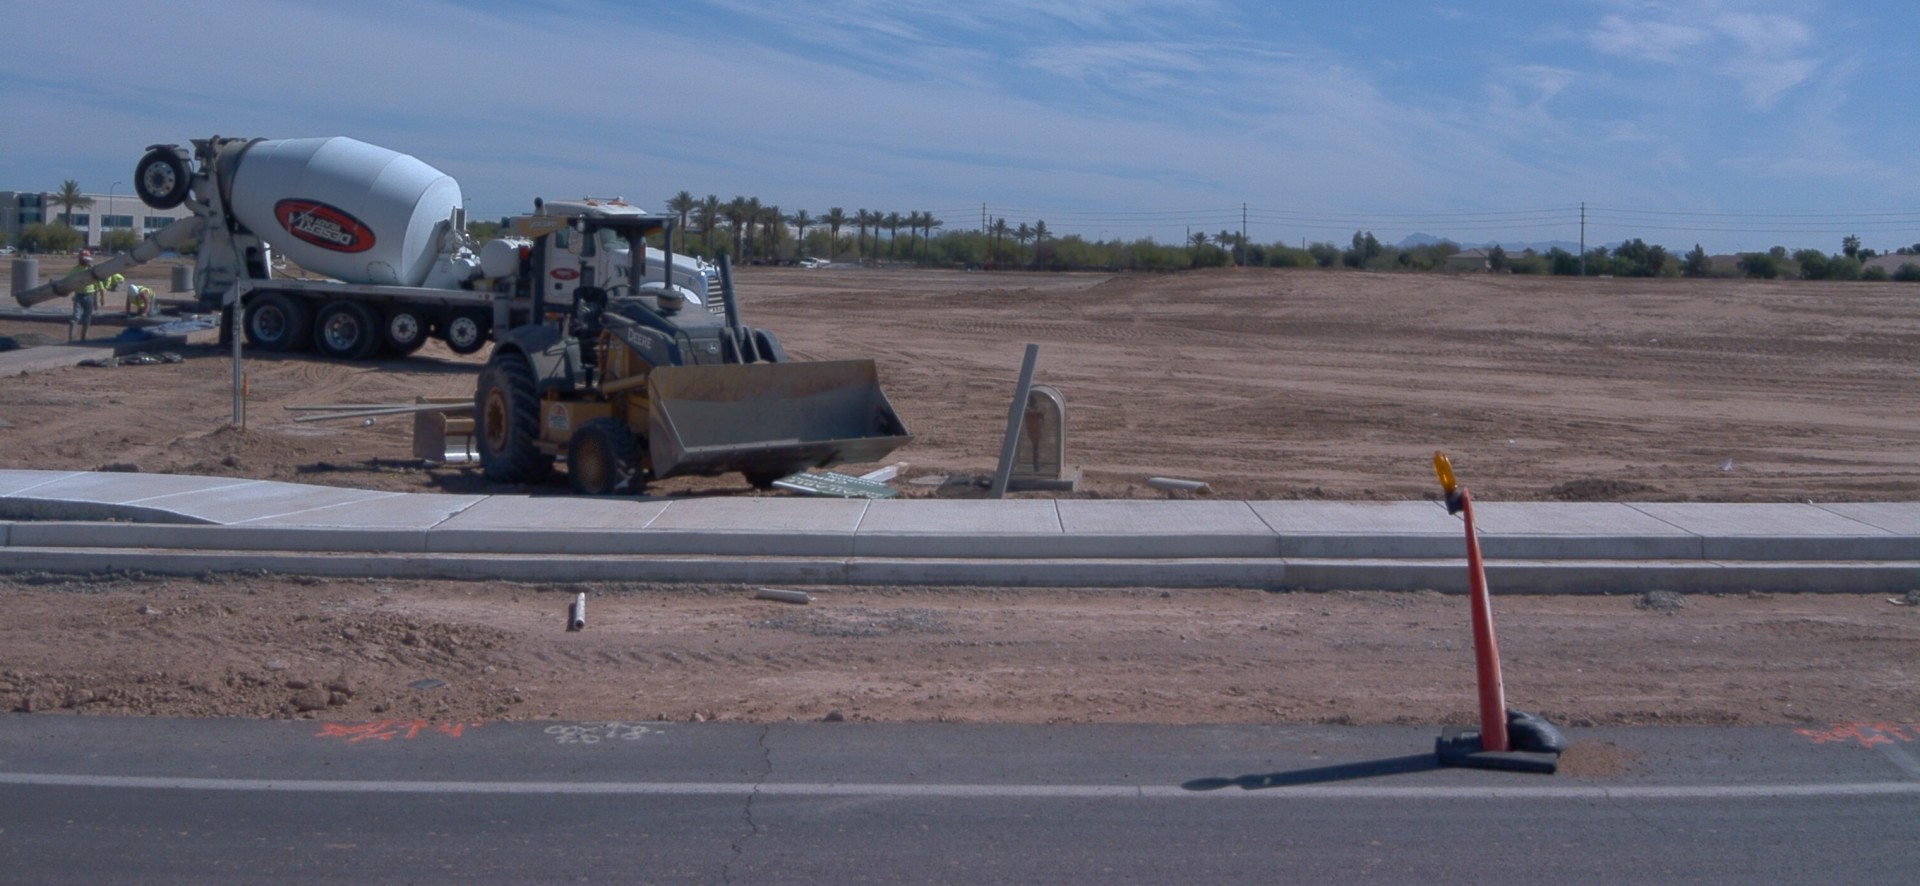TYPE_PEDESTRIAN: (67, 250, 106, 344), (120, 283, 158, 326), (101, 268, 127, 292)
TYPE_VEHICLE: (277, 213, 917, 504), (12, 135, 737, 356), (796, 252, 828, 267)
